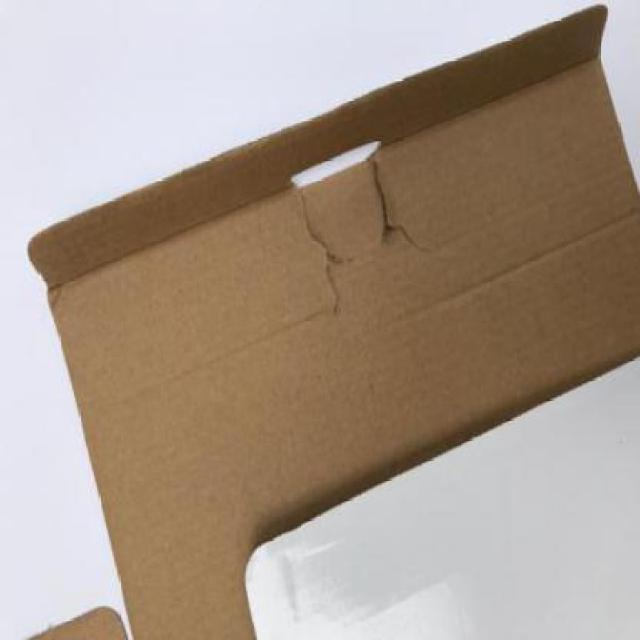PaperCardboard: (34, 6, 640, 640)
